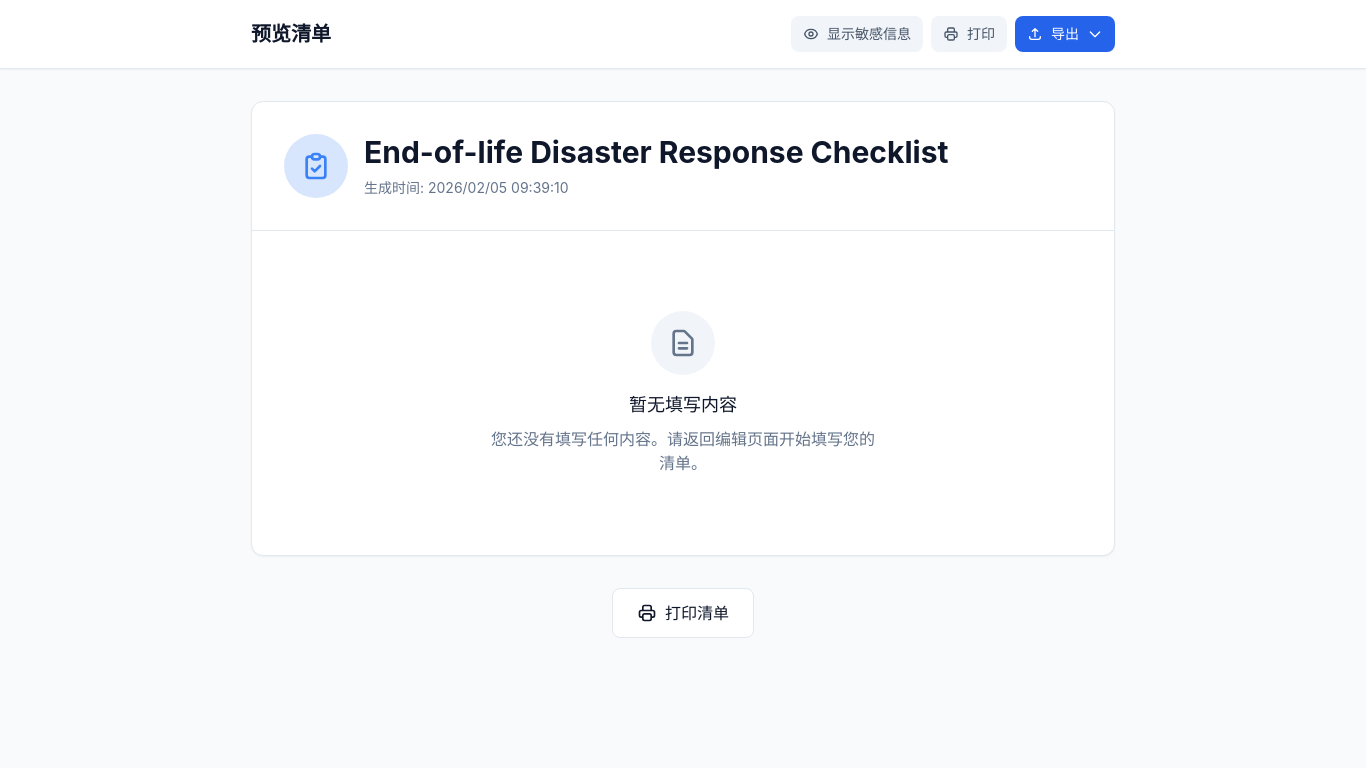
Scenario: PreviewPage › Requirement 5.2: Toggle Sensitive Information Visibility › should toggle button text when clicked
This screenshot has width=1366, height=768.
Click the button "显示敏感信息".
click(857, 34)  # box [791,16,923,52]
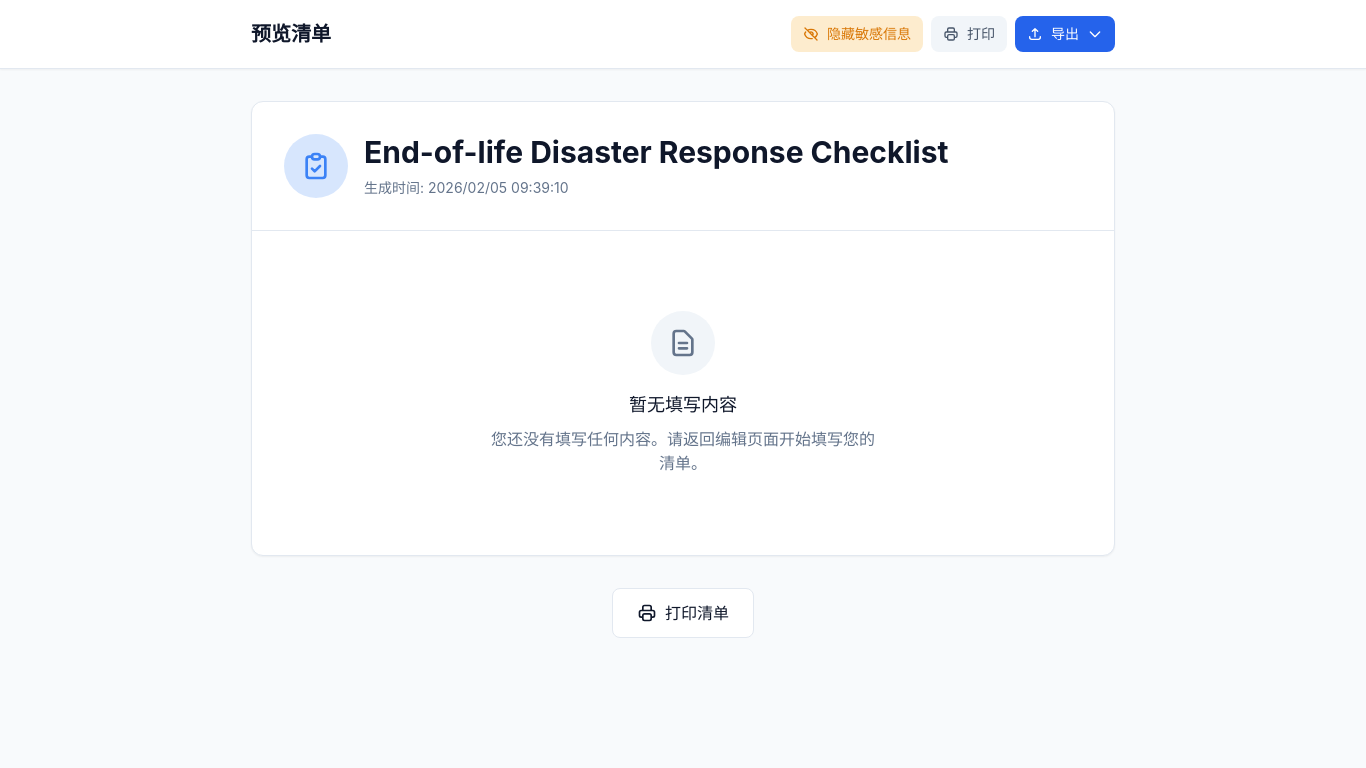
Expected: the button "隐藏敏感信息" is shown, [791,16,923,52]
